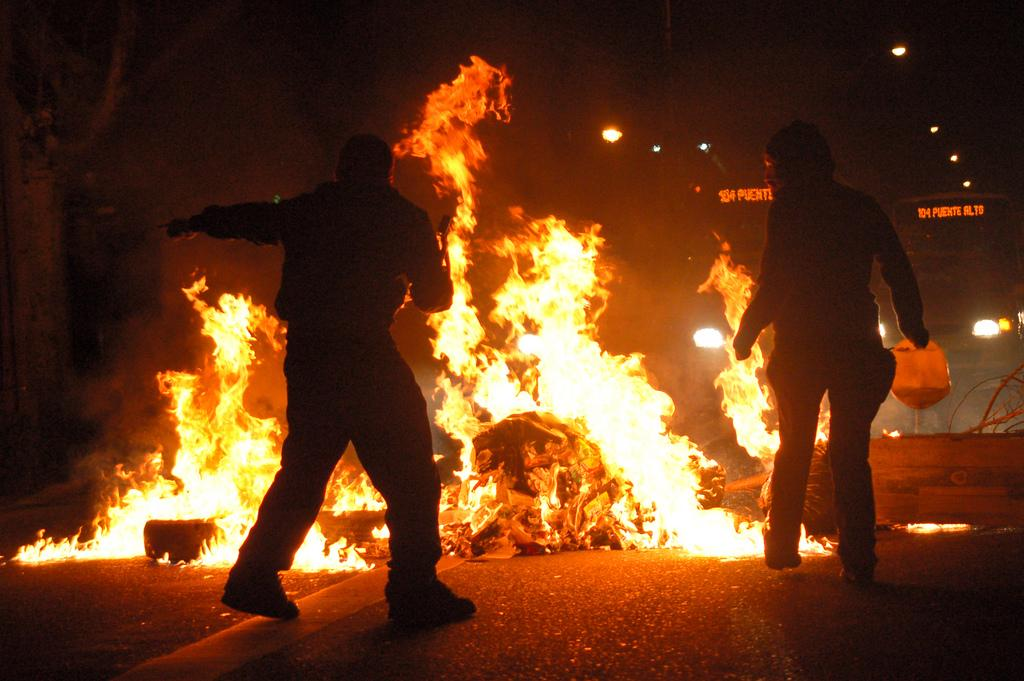fire: (497, 227, 592, 343), (537, 353, 647, 422), (603, 430, 695, 498), (658, 503, 760, 560), (207, 288, 260, 372), (103, 507, 145, 560)
